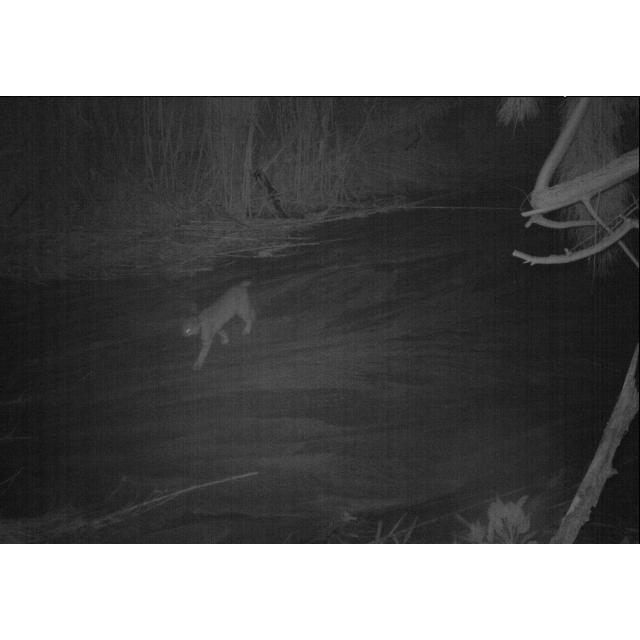animals: (180, 274, 258, 374)
